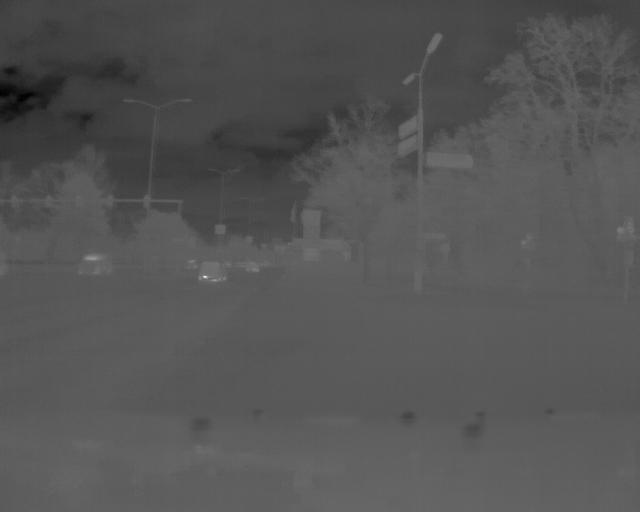car: (75, 251, 114, 276), (198, 260, 228, 283), (243, 260, 261, 273), (183, 258, 198, 271)
